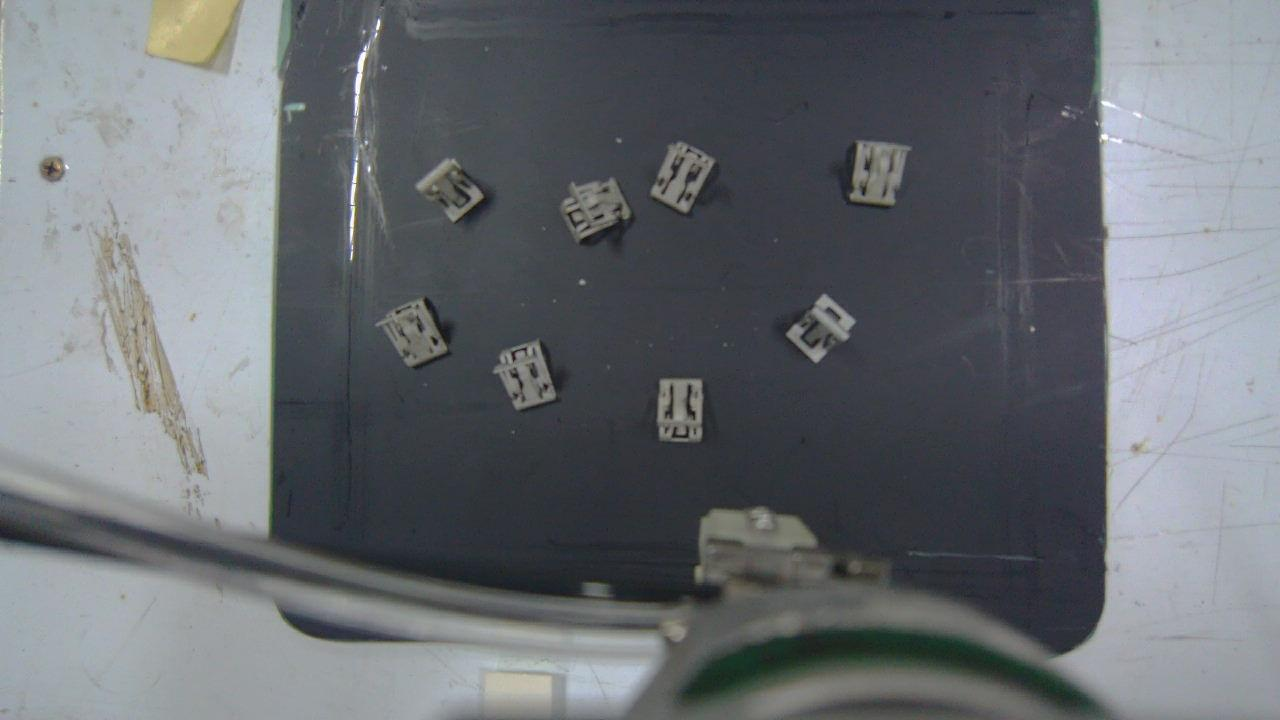ng: (375, 295, 448, 368), (559, 177, 633, 244), (652, 142, 719, 213), (417, 158, 484, 223), (495, 339, 557, 409), (849, 140, 912, 204), (660, 380, 703, 441)
pass: (785, 294, 857, 366)
